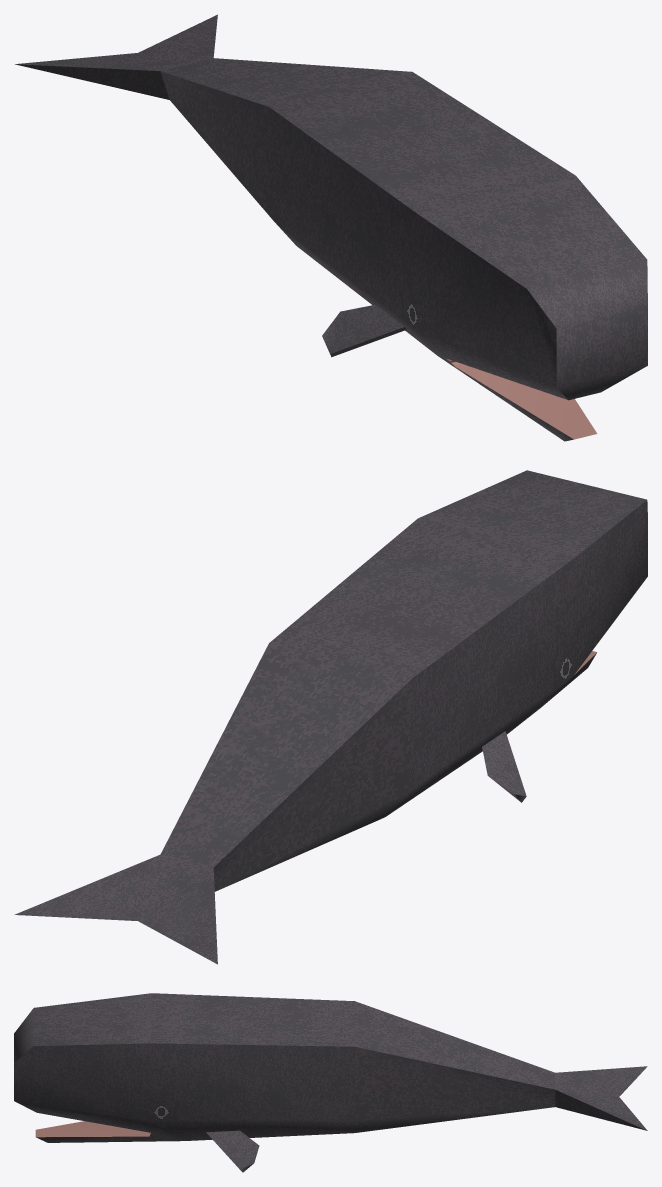
Rendered from 03fe_Sperm_Whale.glb.
3 views of the same model, one above another, from view 1: azimuth 30°, elevation 25°; view 2: azimuth 150°, elevation 25°; view 3: azimuth 270°, elevation 25° (orthographic). The views are drawn at different scales.
Parts seen in each view (by area): view 1: part_0; view 2: part_0; view 3: part_0.
Part boxes in pixels (bbox=[...]): part_0: bbox=[15, 14, 647, 441]; part_0: bbox=[14, 470, 647, 964]; part_0: bbox=[14, 993, 647, 1172].
Size of the model in its own units: 4.86 by 4.34 by 20.06.
Materials: 1 (1 with a texture image).
